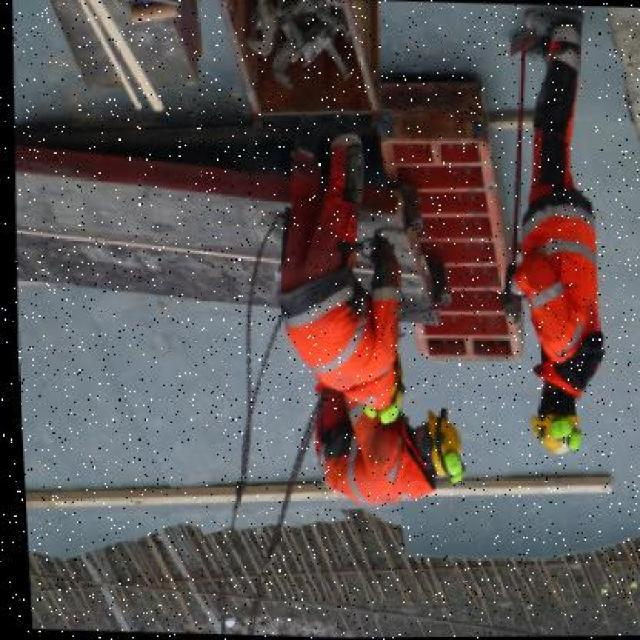vest: (503, 143, 614, 376), (271, 290, 396, 412)
